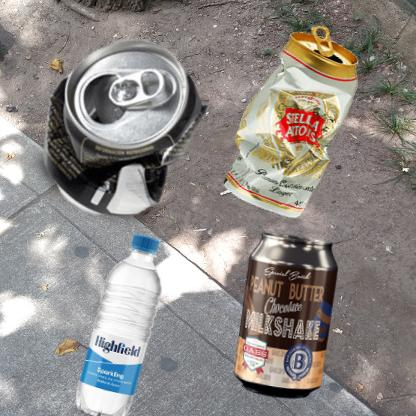botella: (10, 213, 241, 416)
lata: (10, 10, 251, 272), (213, 10, 409, 275), (213, 213, 367, 416)
